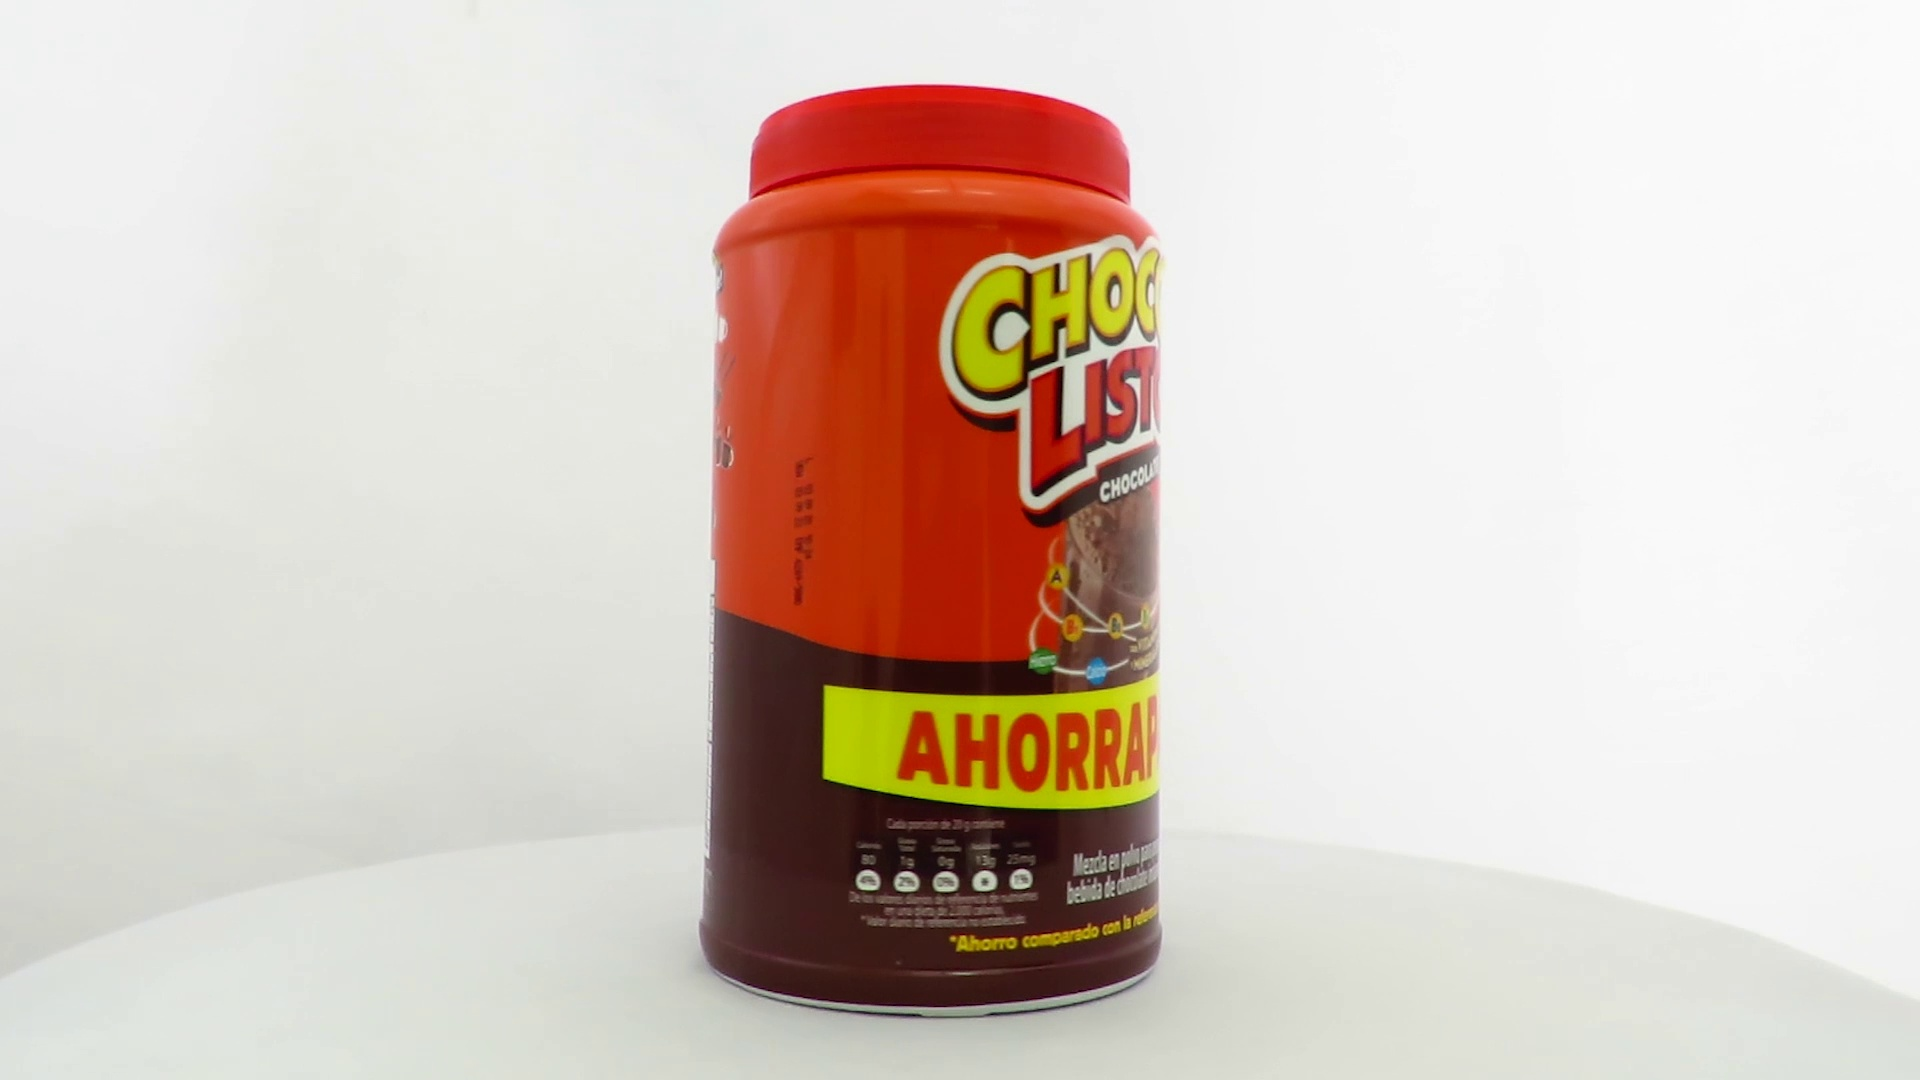COL0170103TRR00100: (694, 79, 1168, 1025)
